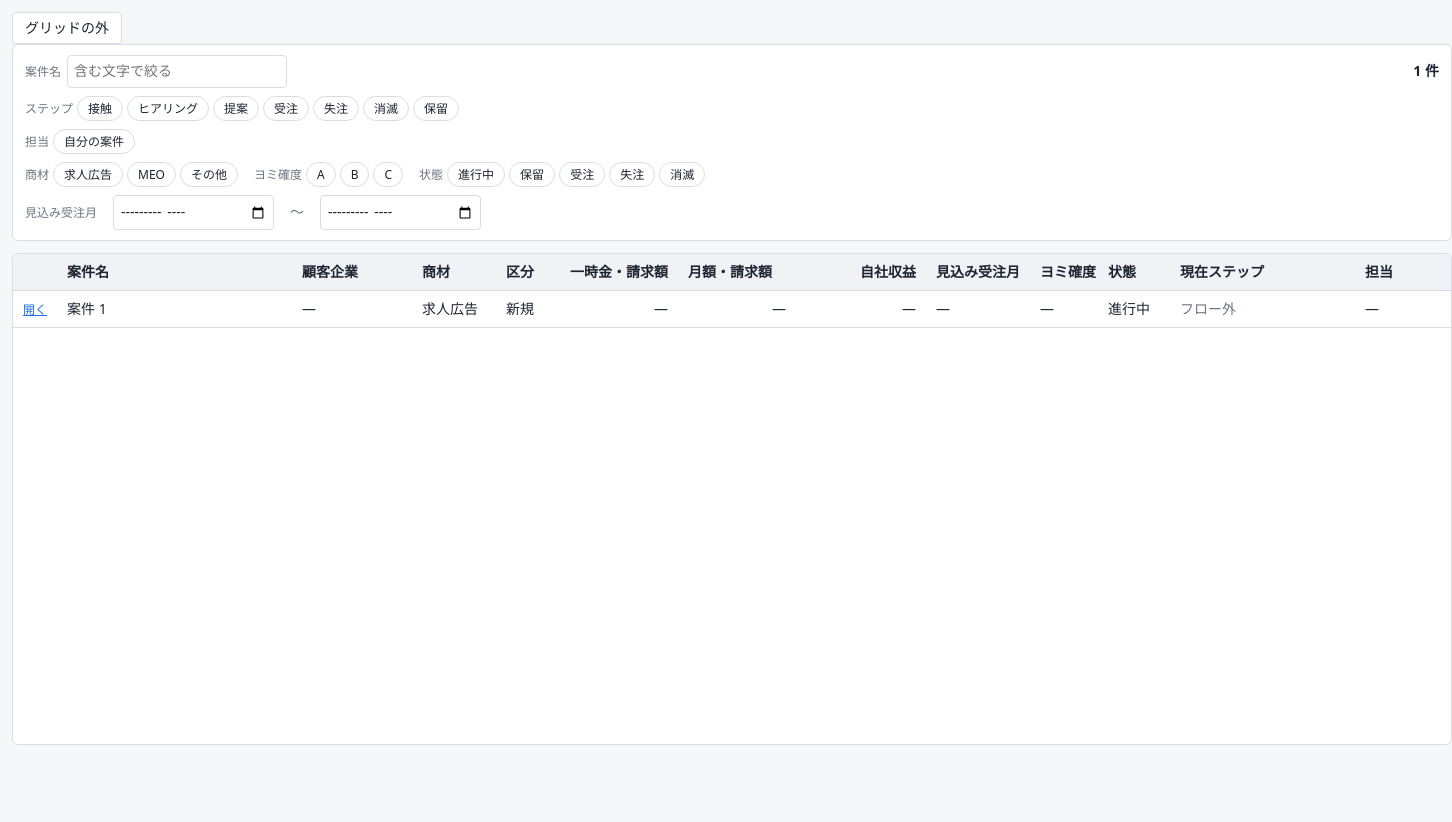
Test: 編集できないセル（決定O・S） › 編集対象外の列（FK など）でも理由が出て、編集を始めると消える
// 顧客企業（FK 列）で Enter
Click the 1st cell "—" at (309, 308), box [302,298,316,318]
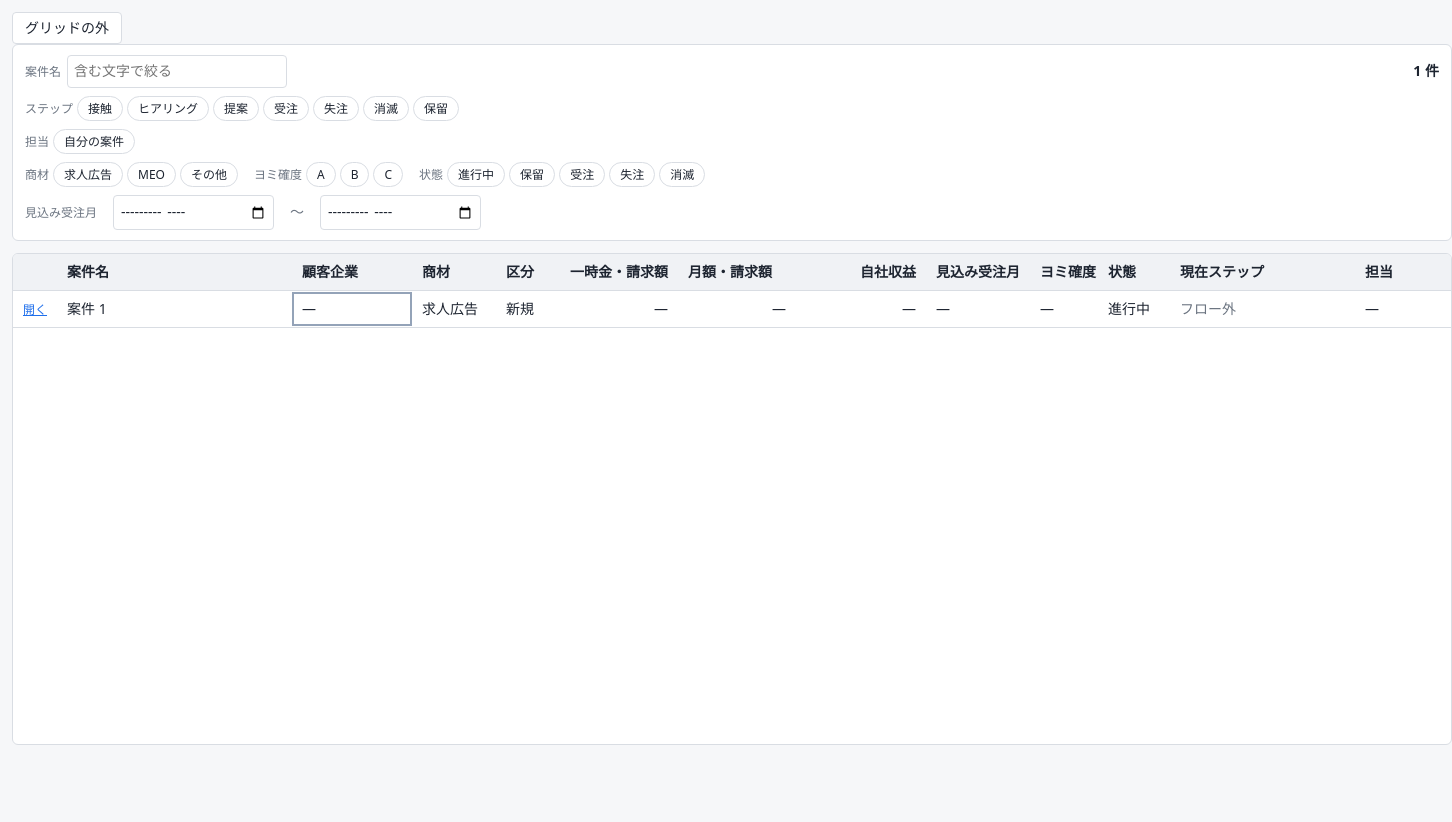
Press Enter
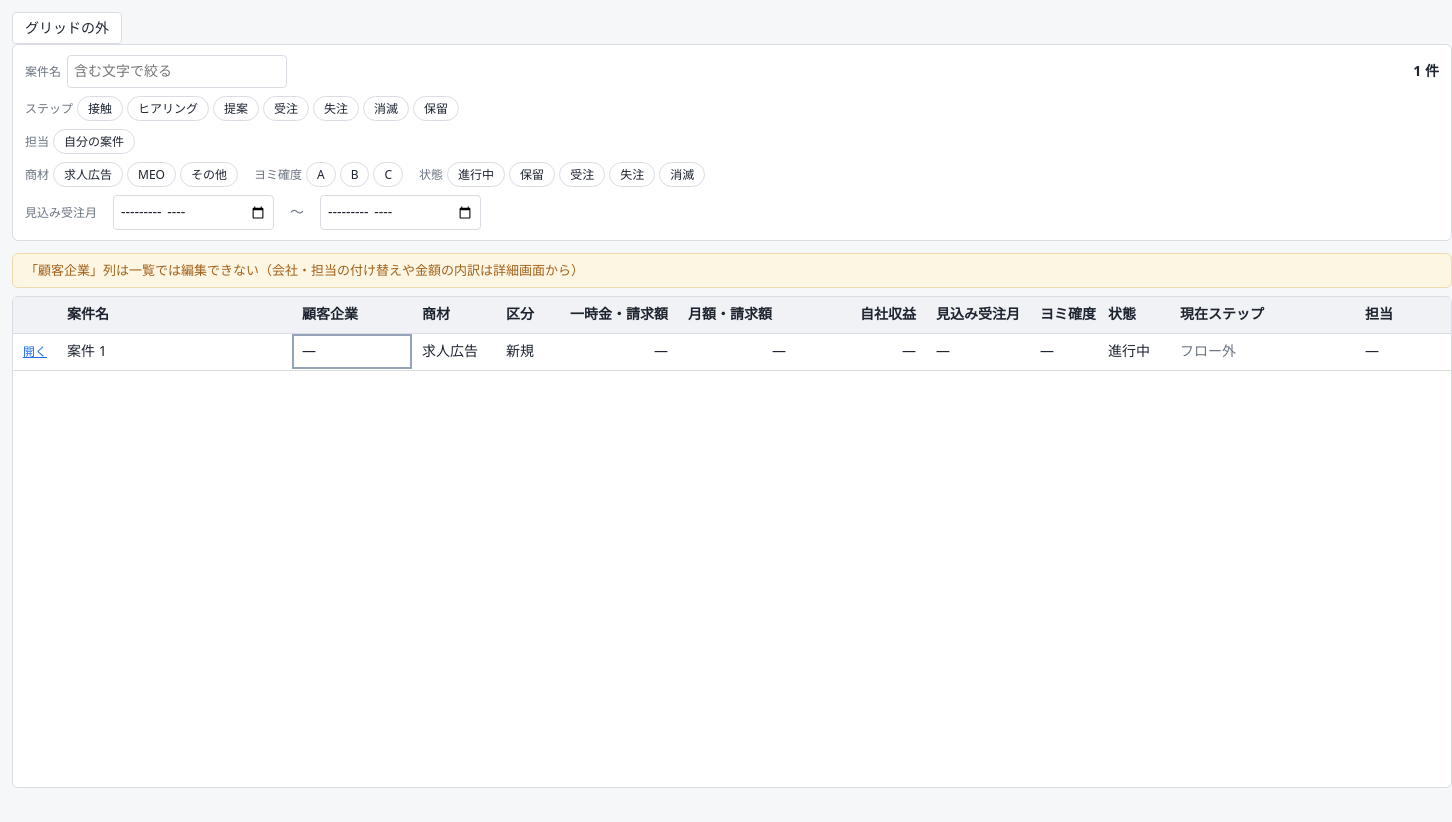
Expected: the message with class "grid-blocked" shows "列は一覧では編集できない", [25,261,584,279]
// 編集できるセルで編集を始めると消える
Click the cell "案件 1" at (87, 351), box [67,341,107,360]
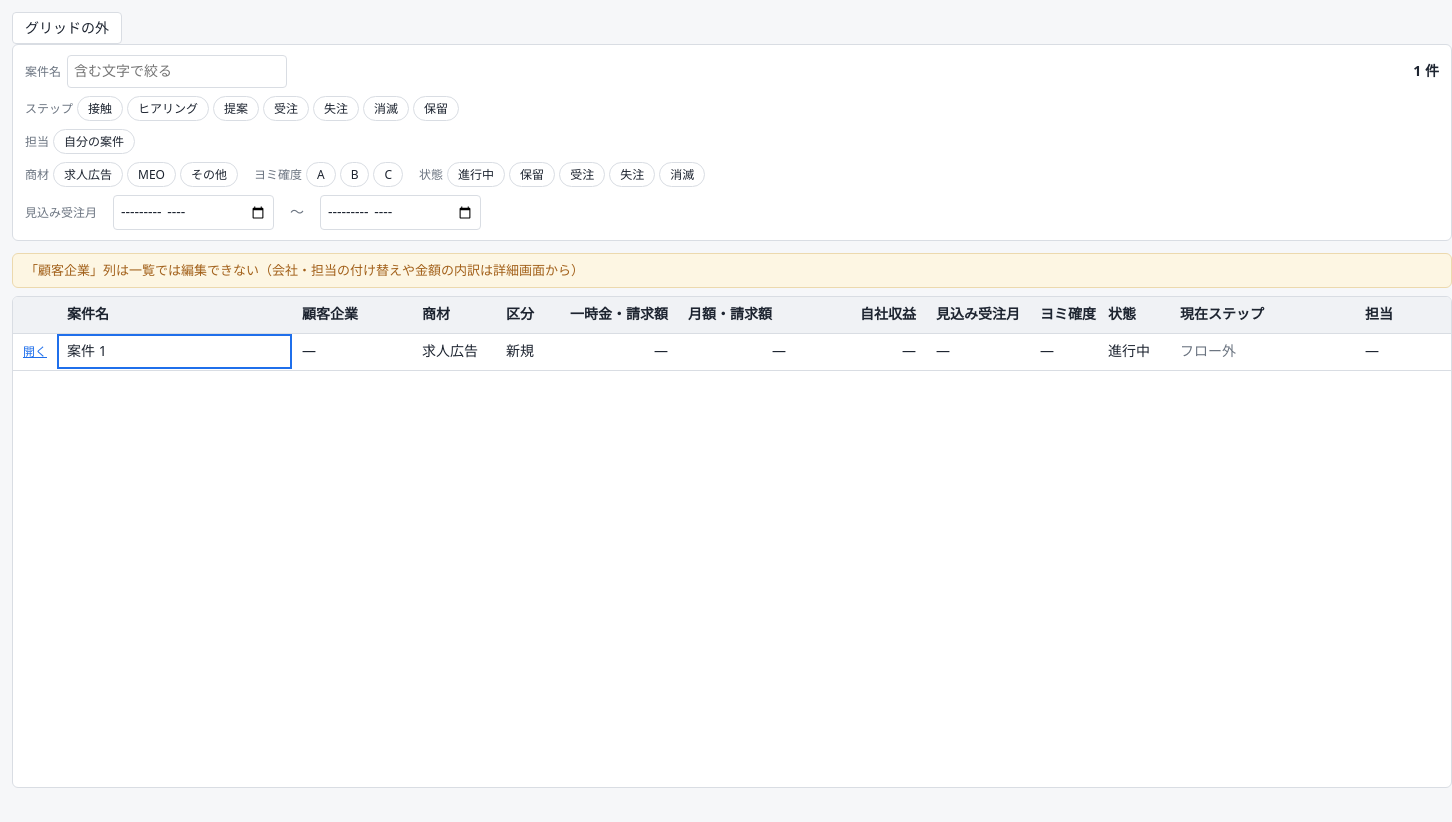
Press Enter
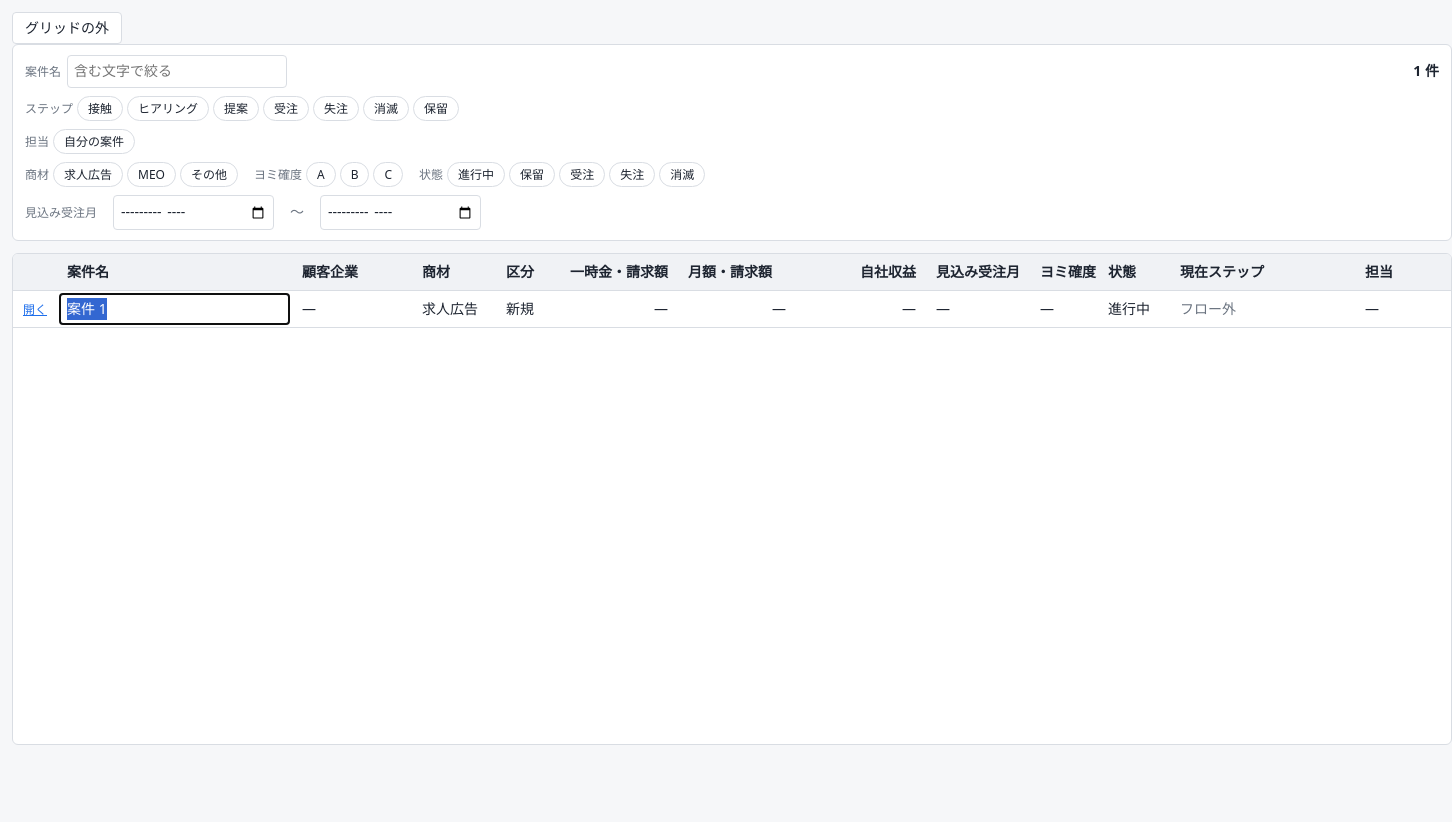
Expected: the field with class "cell-editor" is shown, [59,292,290,325]
Expected: the message with class "grid-blocked" is gone
